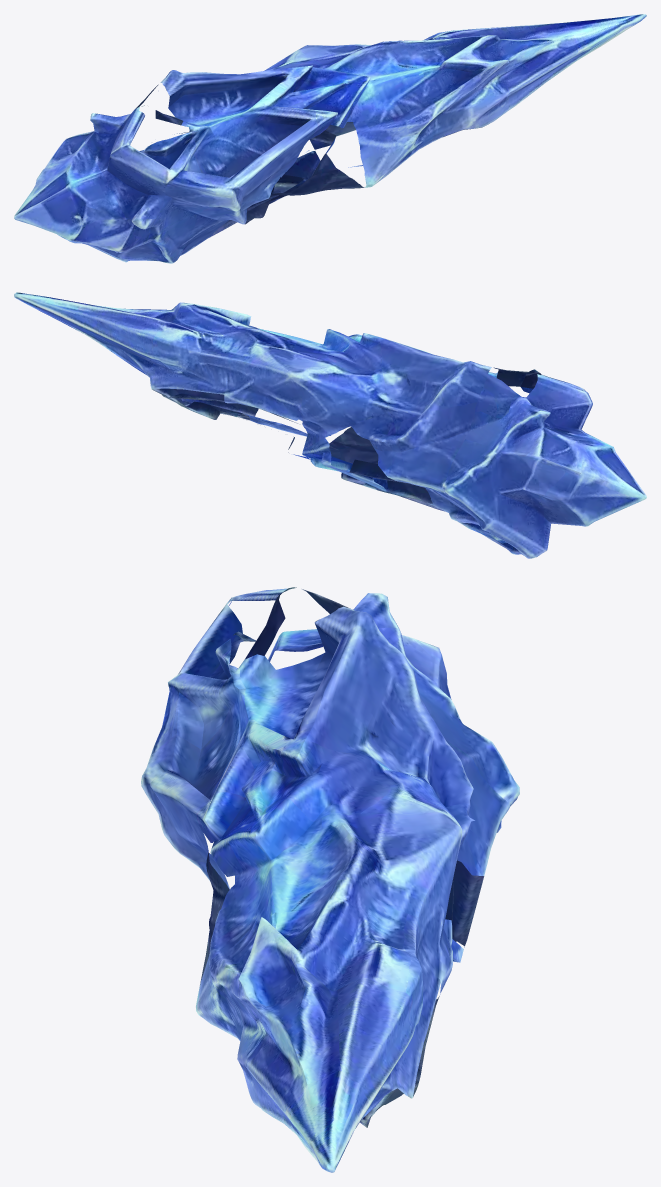
Rendered from gelo.glb.
The picture shows the model from 3 angles, top to bottom: view 1: azimuth 30°, elevation 25°; view 2: azimuth 150°, elevation 25°; view 3: azimuth 270°, elevation 25°; orthographic projection. The views are drawn at different scales.
Parts seen in each view (by area): view 1: tripo_node_f99b64c5-b2e0-447a-95dd-4a116300c50c; view 2: tripo_node_f99b64c5-b2e0-447a-95dd-4a116300c50c; view 3: tripo_node_f99b64c5-b2e0-447a-95dd-4a116300c50c.
Part boxes in pixels (x1,y1,x2,y2): tripo_node_f99b64c5-b2e0-447a-95dd-4a116300c50c: (14, 14, 646, 263); tripo_node_f99b64c5-b2e0-447a-95dd-4a116300c50c: (14, 292, 646, 558); tripo_node_f99b64c5-b2e0-447a-95dd-4a116300c50c: (141, 587, 519, 1172).
Bounding box in the file's own units: 0.9763 × 0.2671 × 0.2534.
1 material, 1 textured.
